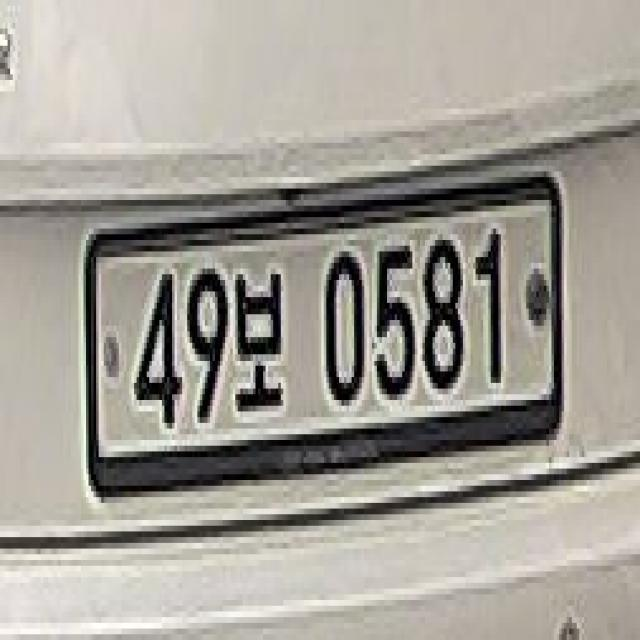0: (326, 243, 364, 412)
1: (474, 220, 512, 398)
4: (136, 264, 182, 428)
5: (374, 240, 416, 408)
8: (421, 232, 468, 398)
9: (187, 260, 230, 426)
bo: (236, 252, 284, 426)
license_plate: (77, 155, 569, 510)
